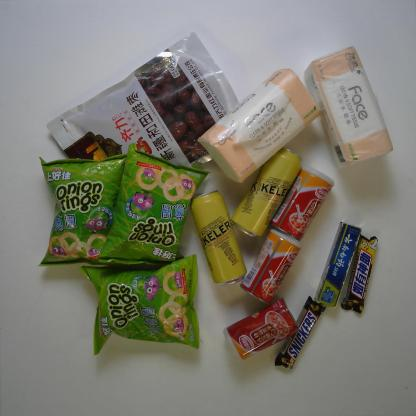Alcohol: (229, 142, 305, 240), (188, 188, 249, 290)
Canned Food: (268, 161, 338, 245), (221, 294, 302, 366), (236, 226, 305, 307)
Chocolate: (274, 292, 328, 372), (339, 232, 381, 317)
Dried Food: (42, 26, 248, 192)
Personal Hygiene: (313, 218, 364, 310)
Puffed Food: (96, 139, 214, 268), (75, 249, 206, 359), (32, 153, 131, 270)
Tissue: (194, 64, 326, 186), (301, 41, 397, 173)
